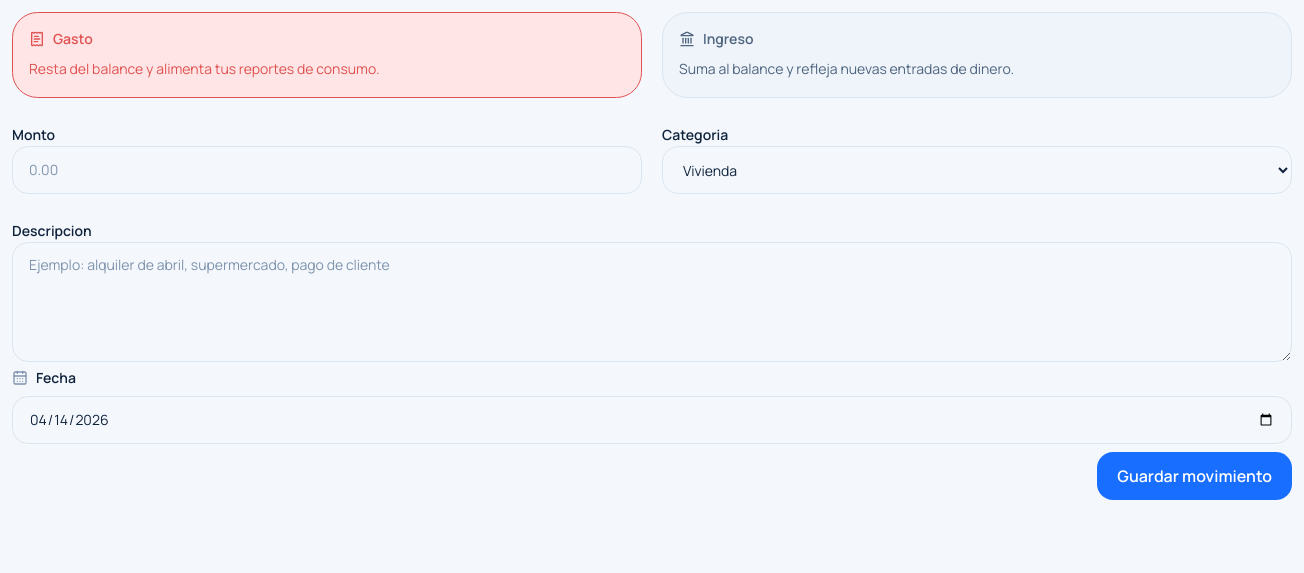
Test: TransactionForm › shows validation errors for invalid submissions
The width and height of the screenshot is (1304, 573).
Clear the date field labelled "Fecha": (652, 420) [12,396,1292,444]
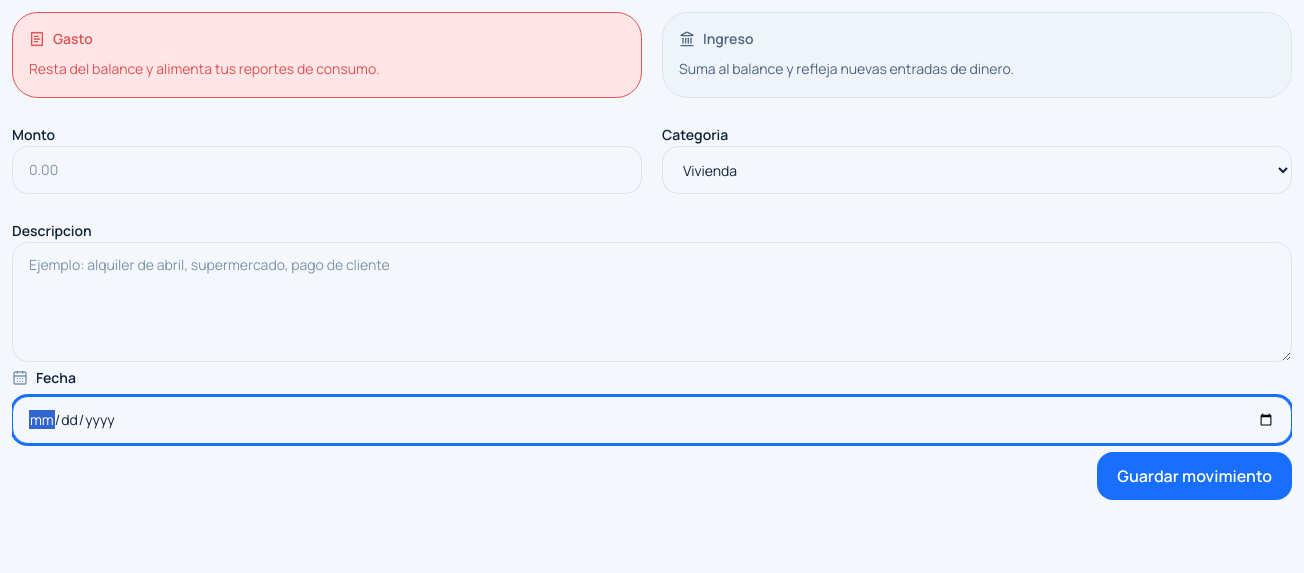
Click the button "Guardar movimiento": click(1195, 476) [1097,452,1292,500]
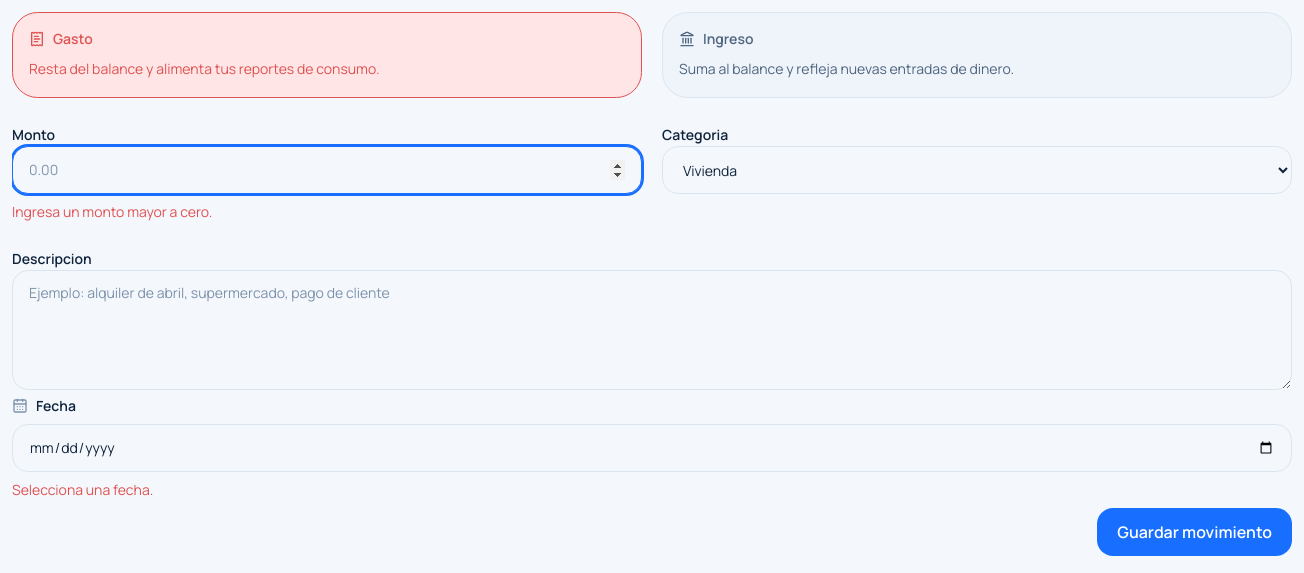
Expected: the text "Ingresa un monto mayor a cero." is shown, [12,202,212,221]
Expected: the text "Selecciona una fecha." is shown, [12,480,153,499]
